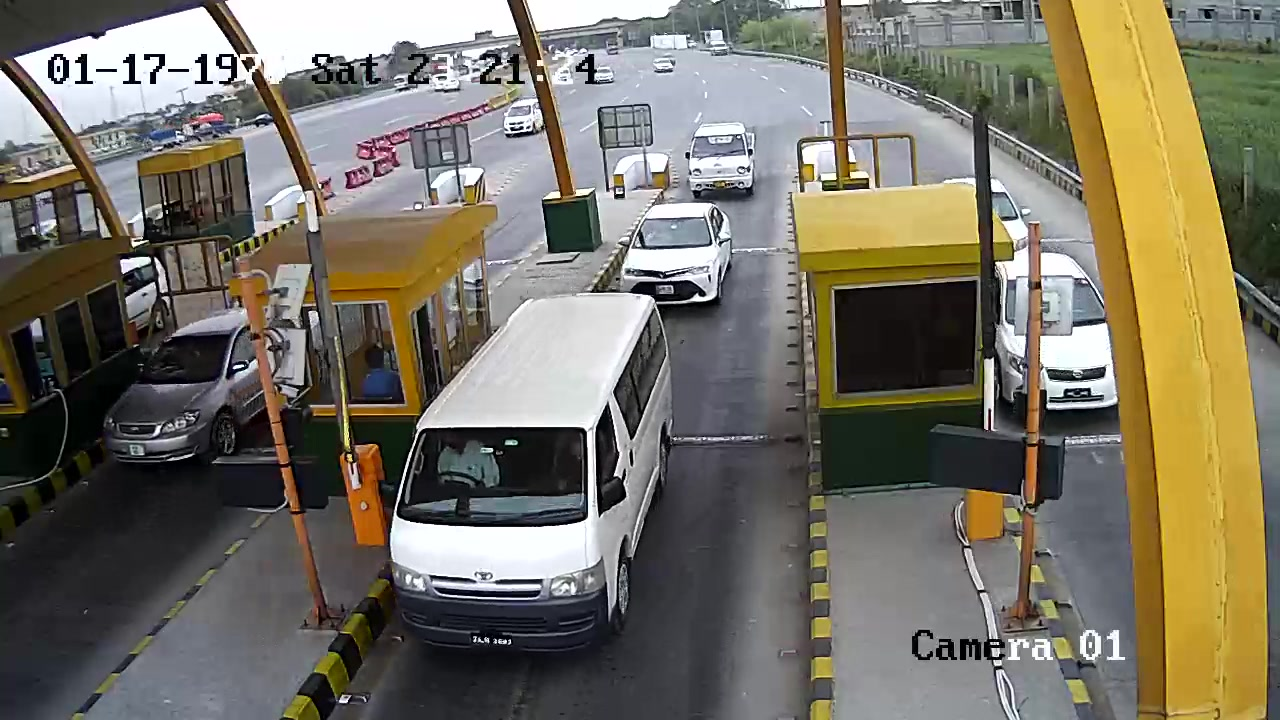F2: (386, 294, 675, 657)
